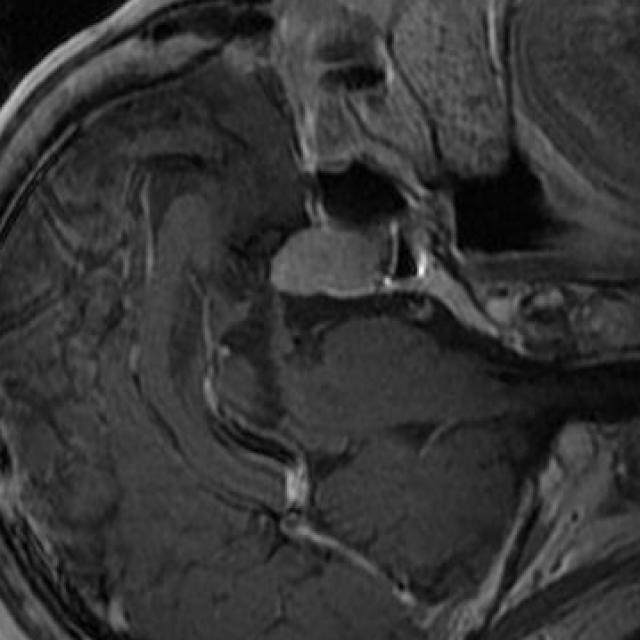pituitary: (269, 228, 382, 299)
